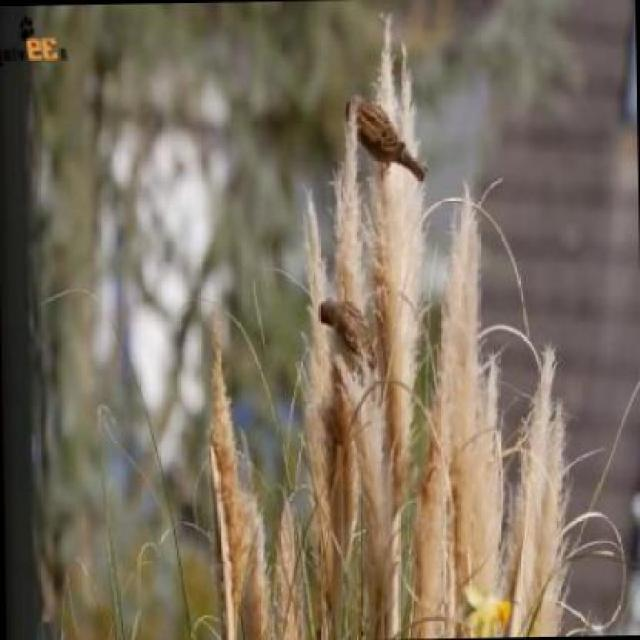Bird: (344, 88, 430, 184), (315, 292, 381, 366)
